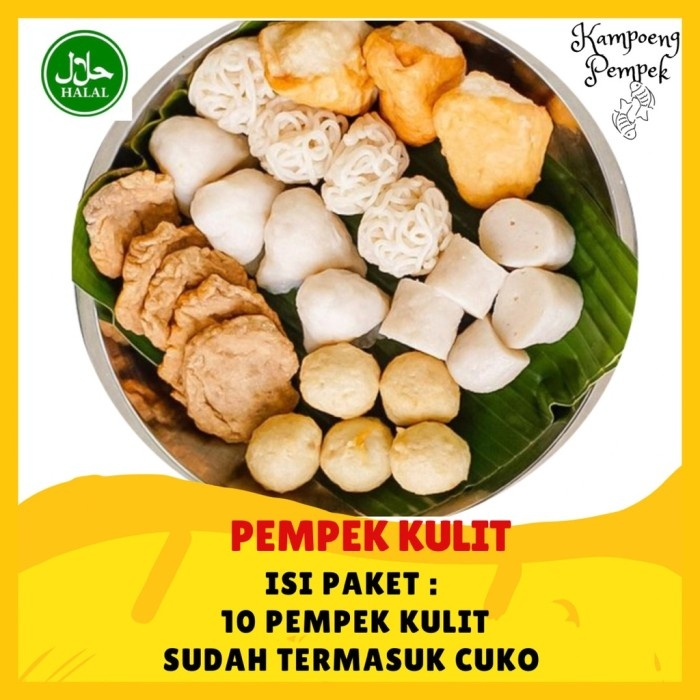pempek: (82, 15, 579, 495)
